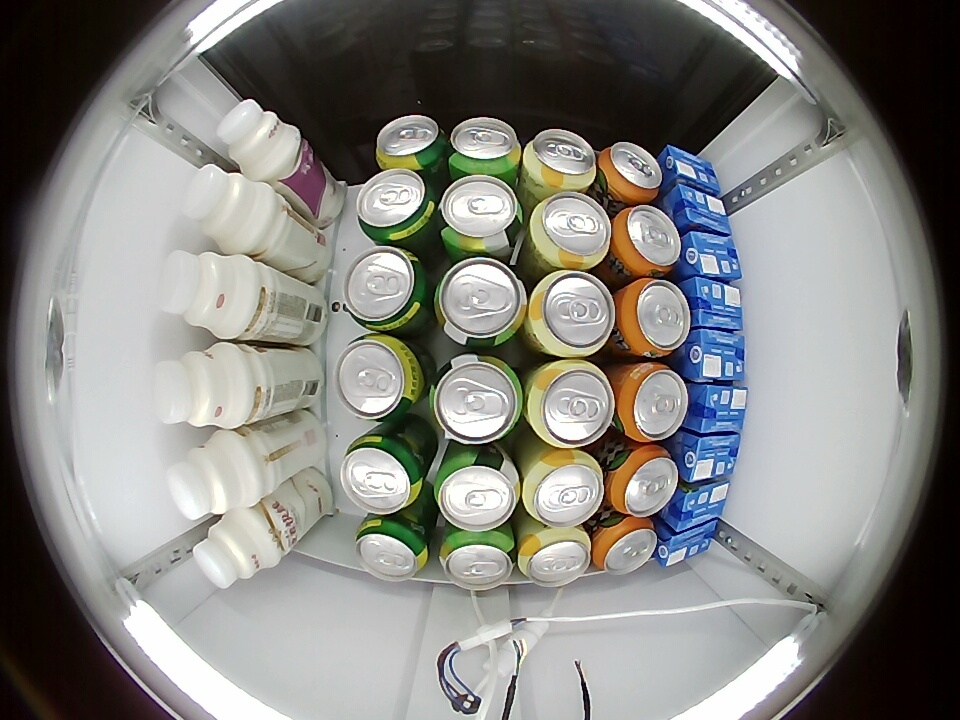fenda: (620, 278, 691, 358), (617, 362, 688, 442), (610, 445, 678, 517), (613, 205, 681, 276), (598, 141, 663, 202), (593, 518, 658, 575)
mangguoxiaolao: (526, 359, 615, 448), (527, 271, 616, 358), (522, 450, 605, 528), (528, 192, 611, 270), (517, 527, 592, 587), (523, 129, 596, 190)
quchenshixiangcao: (431, 353, 524, 445), (434, 257, 527, 348), (432, 450, 522, 531), (439, 175, 524, 254), (438, 531, 516, 591), (448, 117, 521, 175)
weitanai: (682, 328, 746, 382), (677, 432, 742, 483), (684, 277, 744, 332), (687, 382, 749, 435), (680, 230, 743, 282), (667, 480, 731, 531), (669, 185, 733, 236), (660, 145, 721, 196), (655, 519, 719, 567)
xuebi2: (334, 334, 429, 420), (341, 246, 431, 333), (340, 432, 428, 515), (357, 169, 439, 244), (355, 516, 431, 581), (376, 115, 447, 171)
yingyangkuaixian: (157, 250, 258, 339), (166, 430, 263, 520), (181, 165, 277, 254), (152, 343, 251, 429), (193, 509, 281, 589), (217, 99, 300, 179)
